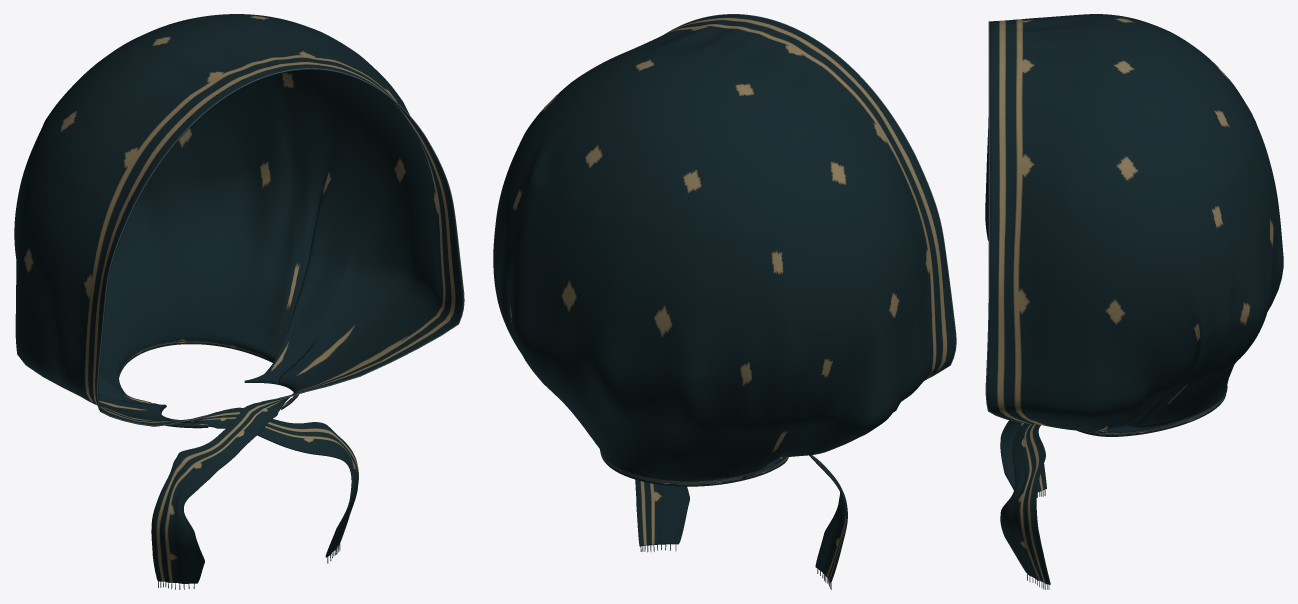
File: Feminine-open-gathered-pashmina248-headgear.glb
3 views of the same model, side by side, from view 1: azimuth 30°, elevation 25°; view 2: azimuth 150°, elevation 25°; view 3: azimuth 270°, elevation 25° (orthographic). The views are drawn at different scales.
Parts seen in each view (by area): view 1: 226 headgear / Headwear / continuous woven pashmina239, 226 headgear / Headwear / face edge239; view 2: 226 headgear / Headwear / continuous woven pashmina239, 226 headgear / Headwear / face edge239; view 3: 226 headgear / Headwear / continuous woven pashmina239, 226 headgear / Headwear / face edge239.
Part boxes in pixels (x1,y1,x2,y2): 226 headgear / Headwear / continuous woven pashmina239: (14, 14, 463, 583); 226 headgear / Headwear / face edge239: (96, 68, 464, 426); 226 headgear / Headwear / continuous woven pashmina239: (493, 14, 955, 583); 226 headgear / Headwear / face edge239: (664, 14, 956, 379); 226 headgear / Headwear / continuous woven pashmina239: (985, 14, 1283, 584); 226 headgear / Headwear / face edge239: (985, 21, 1031, 423).
Size of the model in its own units: 1.02 by 1.35 by 0.7112.
3 materials, 1 textured.
